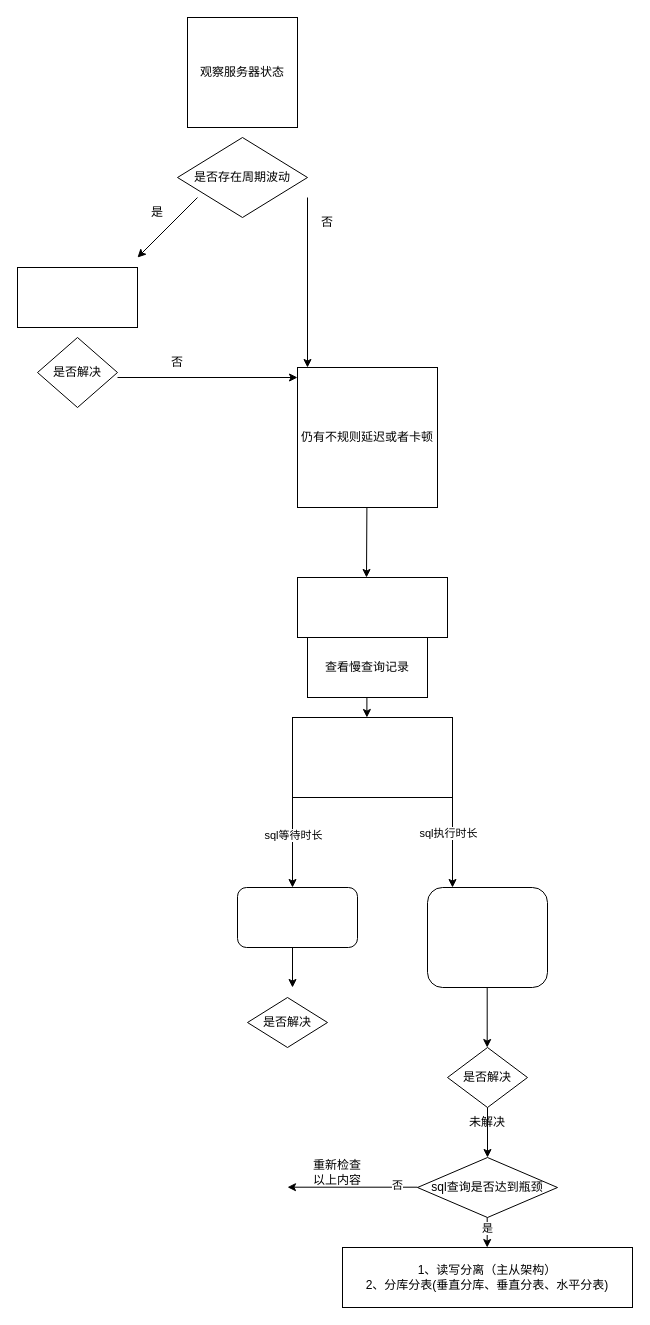
Some shapes in this 650 by 1325 pixel diagram are drawn without their labels. The shapes that lost their labels are listed below. From the top down, each one's box as (x1, y1, x2, y2) in pixels, then its label:
(16, 266, 138, 328): 加缓存更改缓存失效策略
(296, 576, 448, 638): 开启慢查询
(292, 716, 452, 798): explain 或者 show profiling
(236, 886, 358, 948): 调优服务器参数
(426, 886, 548, 988): 1、索引设计优化 2、join表过多,需要优化 3、数据表设计优化
